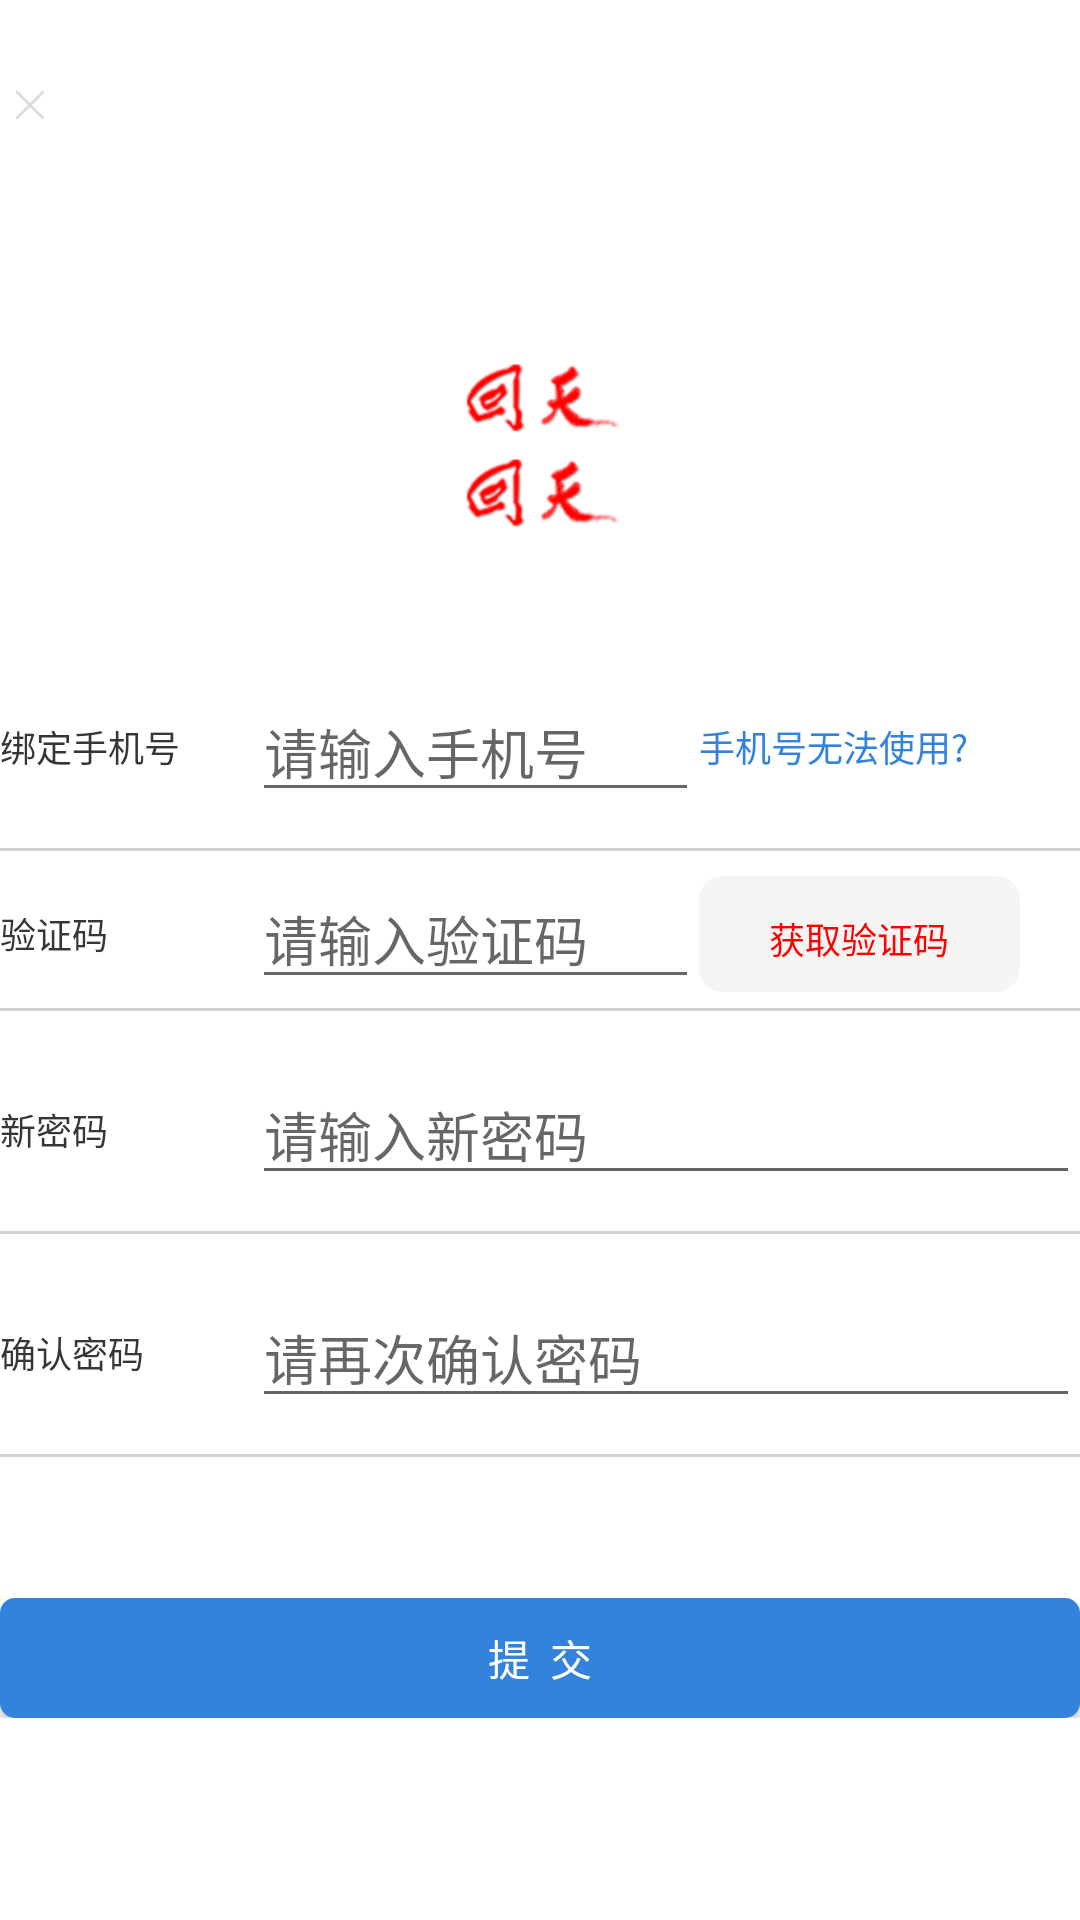

Icon bounding boxes for this 1080w x 1920h phone screenshot, format (x1, y1, x2, y2):
close: (16, 91, 44, 119)
